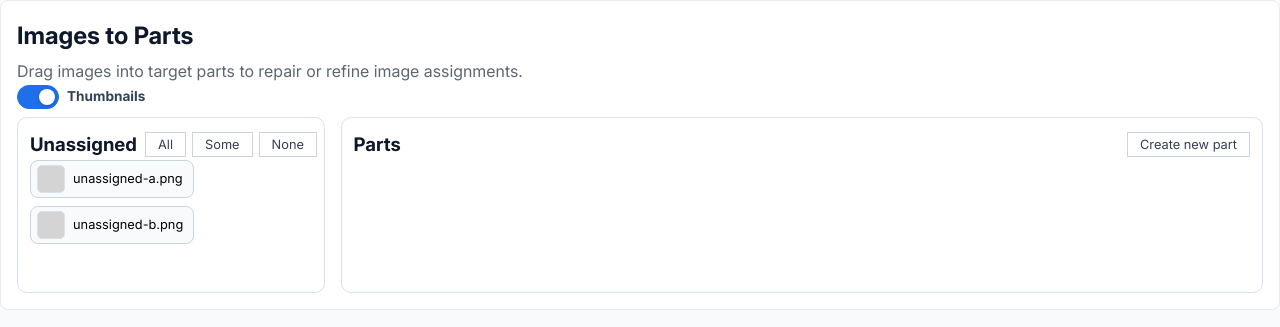
Test: ImagesToPartsTab › toggles inline image thumbnails on and off
Click the checkbox named "Show image thumbnails" at (81, 97), box [17,85,145,109]
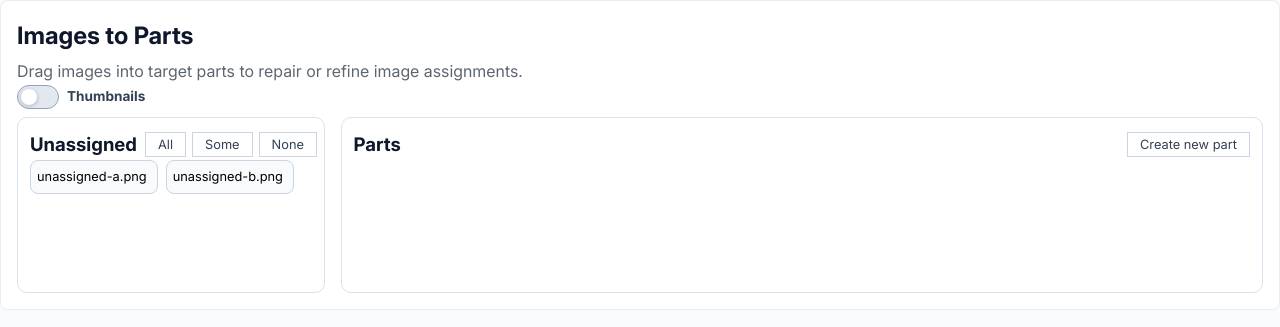
Expected: no pictures with class "image-part-chip-thumbnail" are shown
